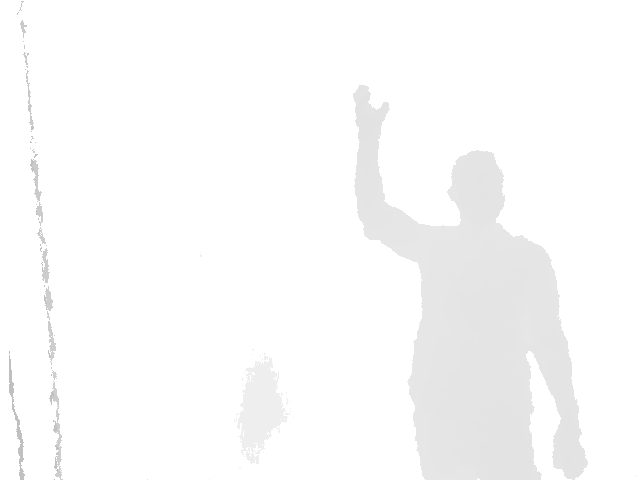hand: (351, 84, 390, 140)
head: (447, 149, 506, 224)
person: (351, 85, 588, 480)
